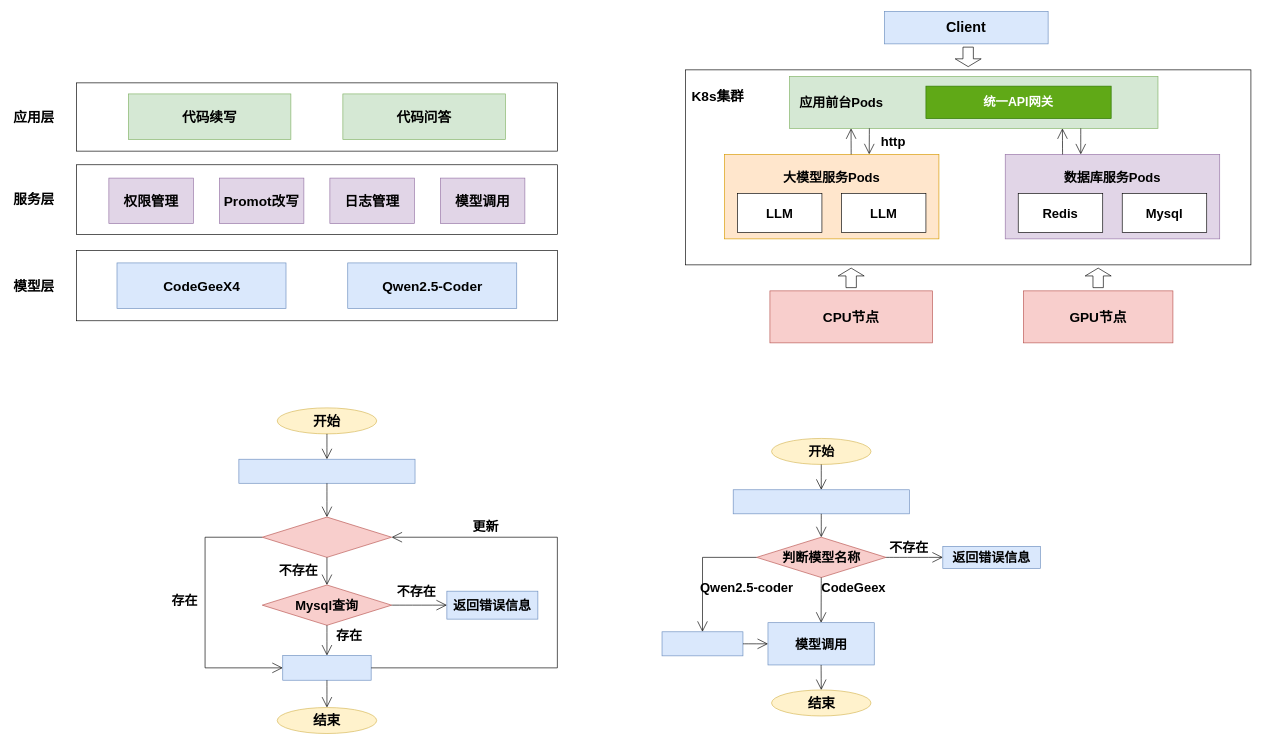
The diagram is 1262 pixels wide and 745 high, and some of its shapes have lost their labels. The shapes that lost their labels are listed below. From the top down, each one's centre as x and y in pixels, then its label:
(326,471): 用户IP/OA名(Access Key)
(821,501): 模型名称/Promot
(327,536): Redis查询
(702,643): 改写Promot
(326,667): 放行
